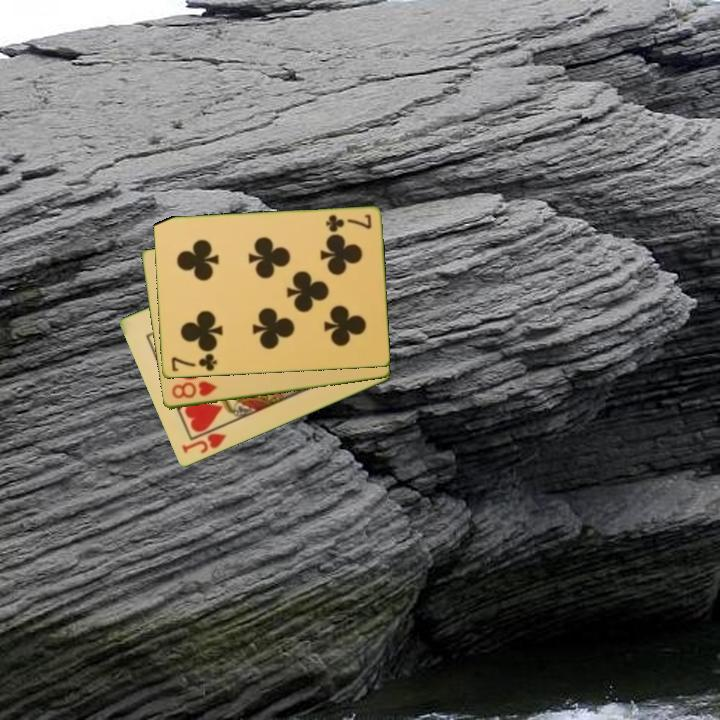7c: (167, 350, 220, 374), (322, 211, 374, 234)
8h: (168, 378, 220, 402)
Jh: (178, 421, 229, 457)
